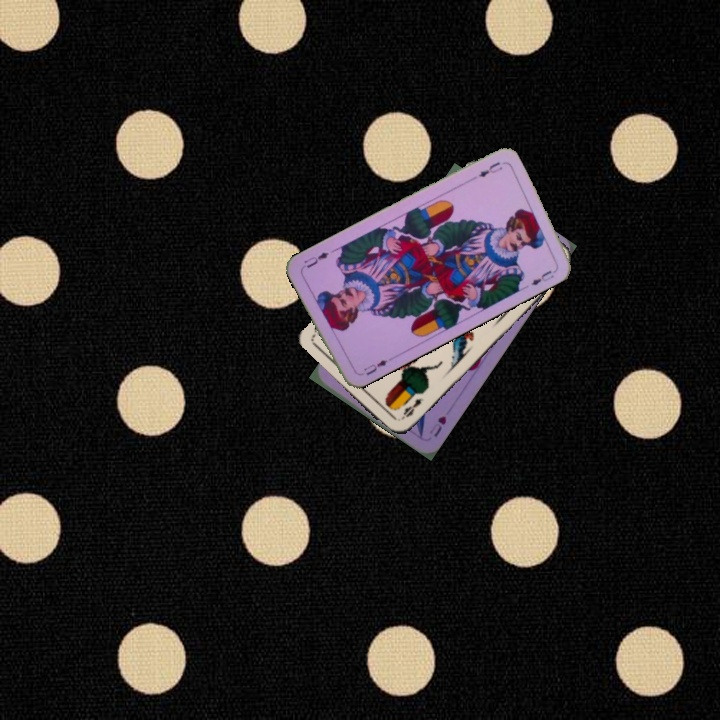EO: (397, 394, 427, 423)
EU: (360, 354, 394, 378), (474, 158, 505, 180)
HU: (425, 412, 449, 440)
